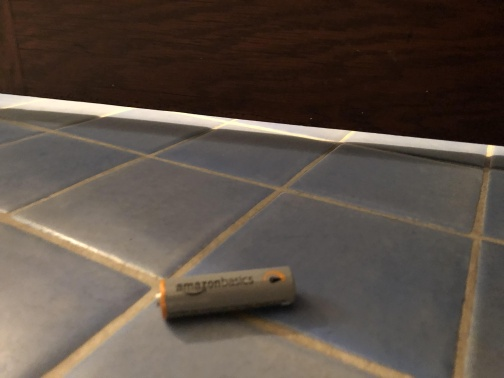battery: (154, 264, 301, 322)
